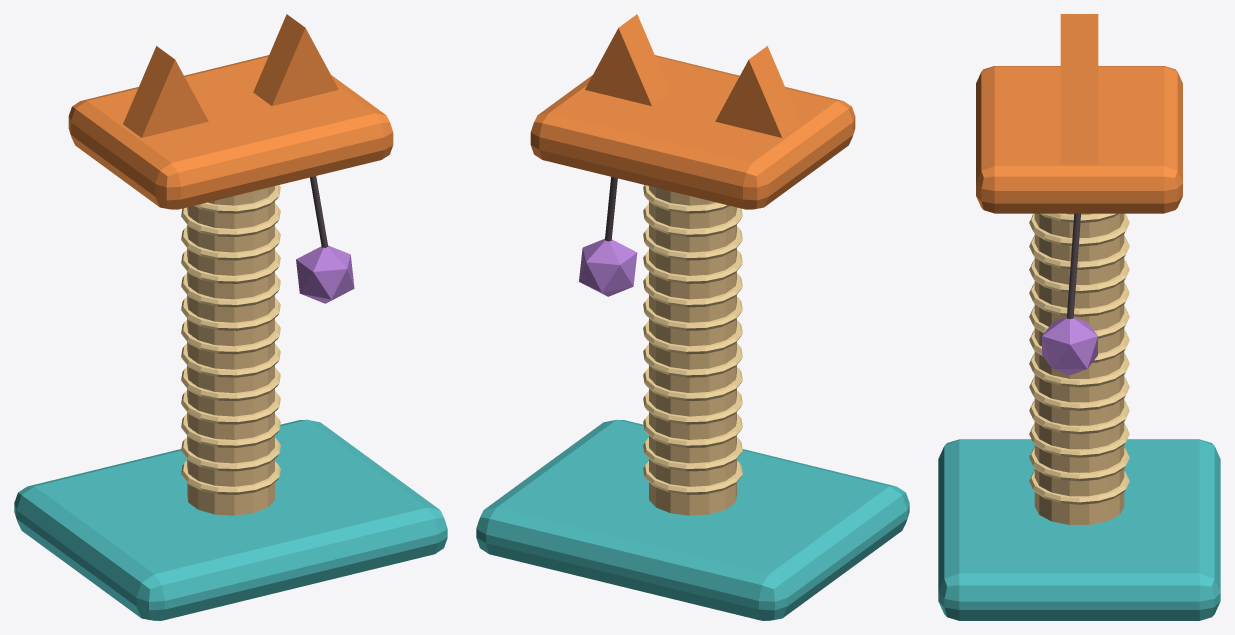
The model's file is ScratchPost.fbx.
The picture shows the model from 3 angles, left to right: view 1: azimuth 30°, elevation 25°; view 2: azimuth 150°, elevation 25°; view 3: azimuth 270°, elevation 25°; orthographic projection.
Visible parts, largest first — view 1: Scratch_Base, Scratch_Top, Scratch_Post, Top_Ear_Left, Top_Ear_Right, Dangling_Toy, Rope_Ring_05, Rope_Ring_10, Rope_Ring_03, Rope_Ring_01, Rope_Ring_07, Rope_Ring_08 (+7 smaller); view 2: Scratch_Base, Scratch_Top, Scratch_Post, Top_Ear_Left, Top_Ear_Right, Dangling_Toy, Rope_Ring_05, Rope_Ring_10, Rope_Ring_03, Rope_Ring_01, Rope_Ring_07, Rope_Ring_08 (+7 smaller); view 3: Scratch_Base, Scratch_Top, Scratch_Post, Top_Ear_Right, Dangling_Toy, Top_Ear_Left, Rope_Ring_01, Rope_Ring_03, Rope_Ring_02, Rope_Ring_00, Rope_Ring_04, Rope_Ring_05 (+8 smaller).
Part boxes in pixels (left/top/right/bottom): Scratch_Base: left=14, top=419, right=447, bottom=620; Scratch_Top: left=68, top=55, right=393, bottom=209; Scratch_Post: left=187, top=186, right=274, bottom=515; Top_Ear_Left: left=123, top=46, right=208, bottom=137; Top_Ear_Right: left=253, top=14, right=338, bottom=105; Dangling_Toy: left=296, top=245, right=354, bottom=303; Rope_Ring_05: left=181, top=344, right=280, bottom=377; Rope_Ring_10: left=181, top=226, right=280, bottom=260; Rope_Ring_03: left=181, top=390, right=280, bottom=424; Rope_Ring_01: left=181, top=437, right=280, bottom=471; Rope_Ring_07: left=181, top=297, right=280, bottom=330; Rope_Ring_08: left=181, top=273, right=280, bottom=307; Scratch_Base: left=476, top=419, right=909, bottom=620; Scratch_Top: left=530, top=55, right=855, bottom=209; Scratch_Post: left=649, top=186, right=736, bottom=515; Top_Ear_Left: left=715, top=46, right=800, bottom=137; Top_Ear_Right: left=585, top=14, right=670, bottom=105; Dangling_Toy: left=579, top=238, right=637, bottom=296; Rope_Ring_05: left=643, top=344, right=742, bottom=377; Rope_Ring_10: left=643, top=226, right=742, bottom=260; Rope_Ring_03: left=643, top=390, right=742, bottom=424; Rope_Ring_01: left=643, top=437, right=742, bottom=471; Rope_Ring_07: left=643, top=297, right=742, bottom=330; Rope_Ring_08: left=643, top=273, right=742, bottom=307; Scratch_Base: left=938, top=439, right=1220, bottom=620; Scratch_Top: left=976, top=66, right=1182, bottom=213; Scratch_Post: left=1034, top=213, right=1124, bottom=524; Top_Ear_Right: left=1060, top=77, right=1098, bottom=164; Dangling_Toy: left=1042, top=317, right=1097, bottom=375; Top_Ear_Left: left=1060, top=14, right=1098, bottom=77; Rope_Ring_01: left=1029, top=447, right=1129, bottom=481; Rope_Ring_03: left=1029, top=400, right=1129, bottom=434; Rope_Ring_02: left=1029, top=424, right=1129, bottom=457; Rope_Ring_00: left=1029, top=471, right=1129, bottom=504; Rope_Ring_04: left=1029, top=377, right=1129, bottom=410; Rope_Ring_05: left=1029, top=353, right=1129, bottom=387.
Bounding box in the file's own units: 76 × 119 × 60.
